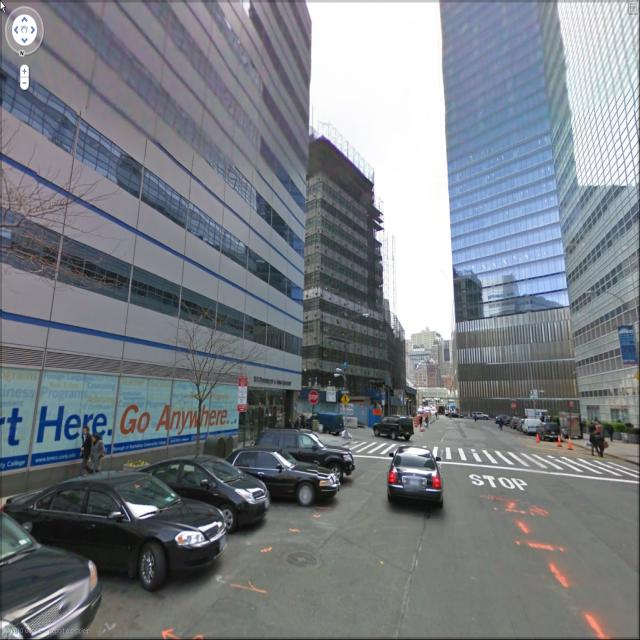b_1: (443, 3, 574, 447), (295, 148, 393, 434)
b_2: (4, 1, 304, 414)
